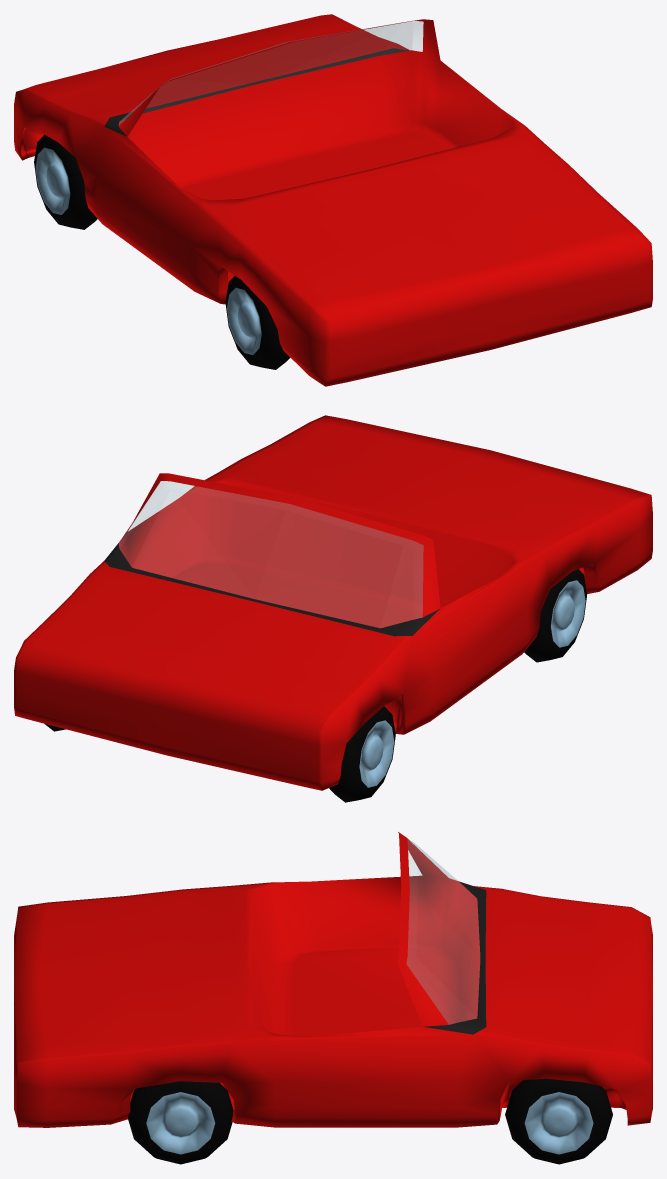
The model's file is car.dae.
3 views of the same model, one above another, from view 1: azimuth 30°, elevation 25°; view 2: azimuth 150°, elevation 25°; view 3: azimuth 270°, elevation 25° (orthographic).
Parts seen in each view (by area): view 1: car-vehicle, wheel1-wheel, wheel2-wheel; view 2: car-vehicle, wheel1-wheel, wheel2-wheel; view 3: car-vehicle, wheel3-wheel, wheel4-wheel.
Boxes of the visible parts, x1,y1,x2,y2 form: car-vehicle: [14, 14, 652, 386]; wheel1-wheel: [34, 134, 97, 229]; wheel2-wheel: [225, 276, 290, 369]; car-vehicle: [14, 415, 652, 790]; wheel1-wheel: [329, 706, 395, 802]; wheel2-wheel: [524, 569, 587, 662]; car-vehicle: [14, 832, 652, 1127]; wheel3-wheel: [505, 1078, 612, 1164]; wheel4-wheel: [128, 1081, 233, 1164].
Bounding box in the file's own units: 3.2 × 5.3 × 1.88.
